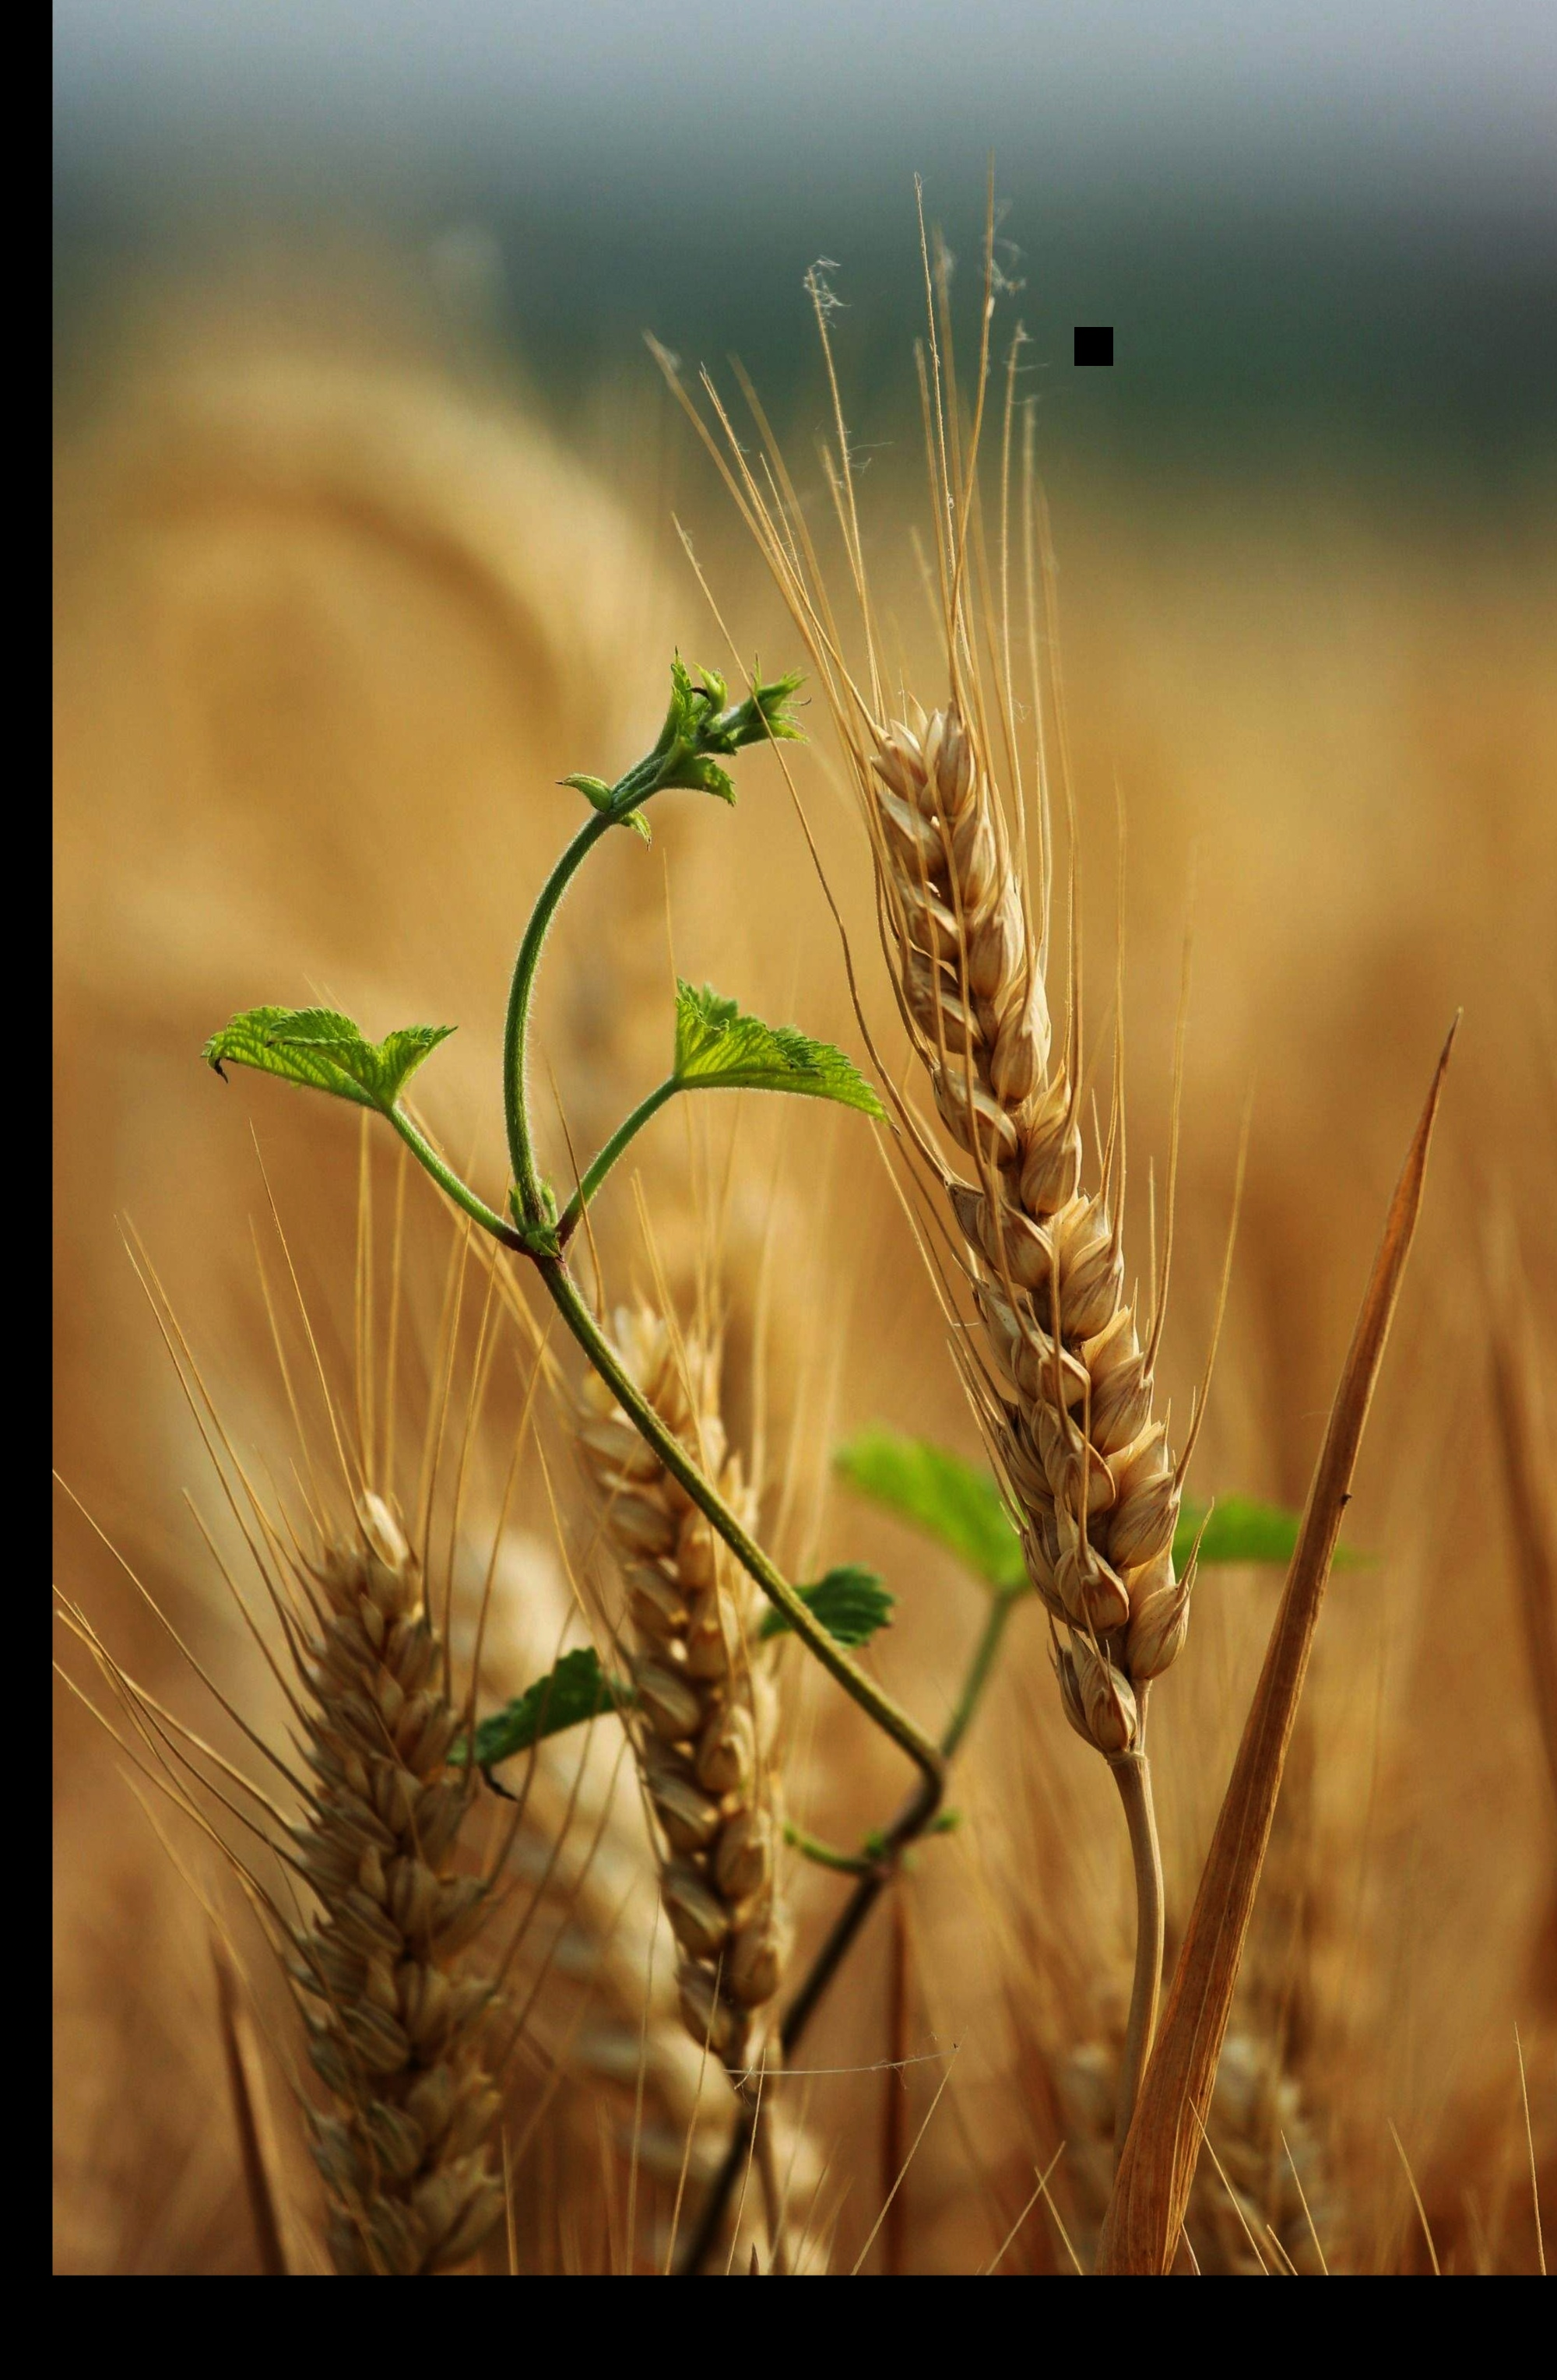wheat: (818, 552, 1241, 1793), (179, 1466, 513, 2253), (586, 1280, 817, 2085)
